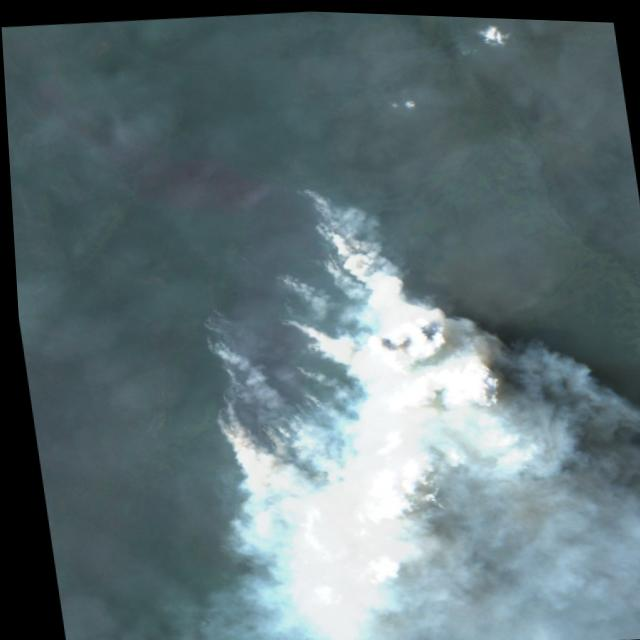fire: (168, 169, 383, 486)
